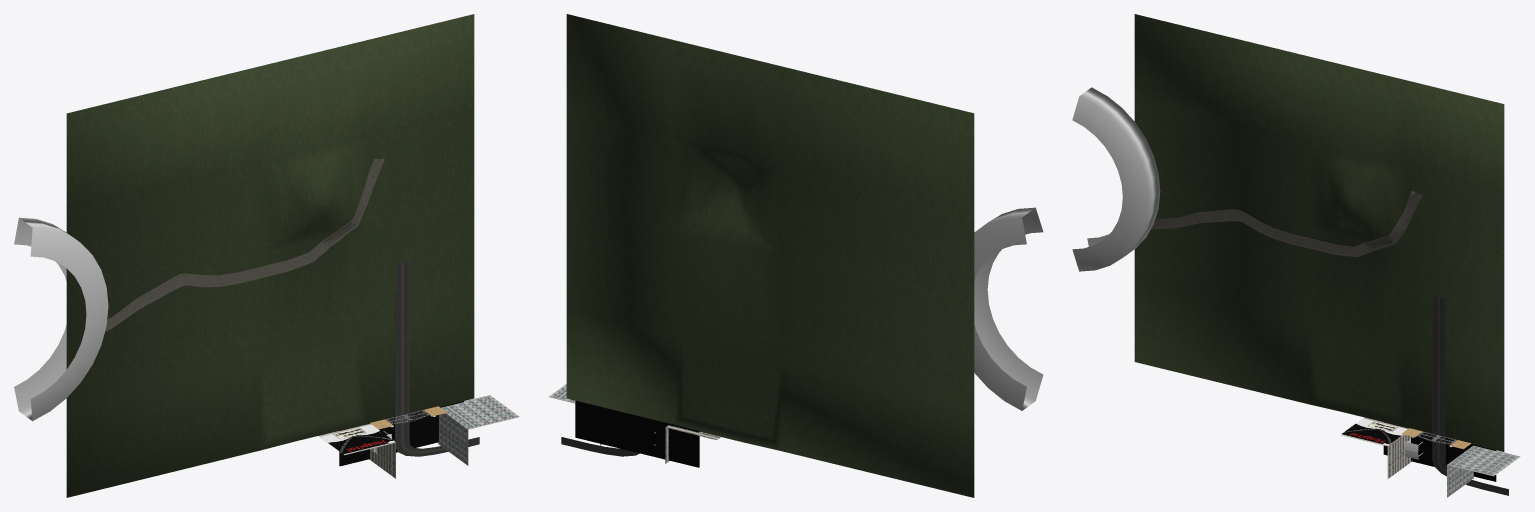
Rendered from Buildings & Roads.fbx.
The picture shows the model from 3 angles, left to right: view 1: azimuth 30°, elevation 25°; view 2: azimuth 150°, elevation 25°; view 3: azimuth 330°, elevation 25°; orthographic projection. The views are drawn at different scales.
Visible parts, largest first — view 1: Grass Plane, HQ building, Park Path, Road, Apartment Block, Black cube, Closed due to lack of funding )_, Hospital building, DTT gate; view 2: Grass Plane, HQ building, Black cube, Road; view 3: Grass Plane, HQ building, Park Path, Road, Apartment Block, Black cube, Closed due to lack of funding )_, Hospital building.
Boxes of the visible parts, <box> form: Grass Plane: <box>66,14,474,497</box>; HQ building: <box>14,217,108,421</box>; Park Path: <box>105,158,384,331</box>; Road: <box>395,260,479,456</box>; Apartment Block: <box>438,395,519,465</box>; Black cube: <box>339,401,463,466</box>; Closed due to lack of funding )_: <box>320,424,394,454</box>; Hospital building: <box>319,423,395,478</box>; DTT gate: <box>370,406,447,429</box>; Grass Plane: <box>566,14,974,497</box>; HQ building: <box>974,207,1043,410</box>; Black cube: <box>575,400,699,467</box>; Road: <box>561,437,639,456</box>; Grass Plane: <box>1134,14,1504,451</box>; HQ building: <box>1072,87,1160,271</box>; Park Path: <box>1150,191,1421,257</box>; Road: <box>1432,295,1508,495</box>; Apartment Block: <box>1447,445,1520,497</box>; Black cube: <box>1383,422,1496,481</box>; Closed due to lack of funding )_: <box>1342,418,1406,445</box>; Hospital building: <box>1341,417,1411,478</box>.
Bounding box in the file's own units: 401 × 347 × 48.32.
